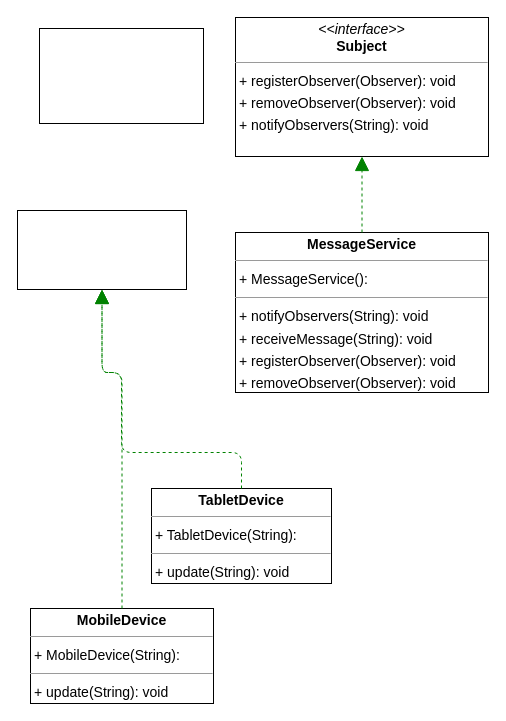
This 506x721 diagram has some shape labels left out. Here are the shapes that lost their labels. From the top down, the centre of each, then its label:
point (121, 76): Main + Main(): + main(String[]): void
point (101, 250): <<interface>> Observer + update(String): void
